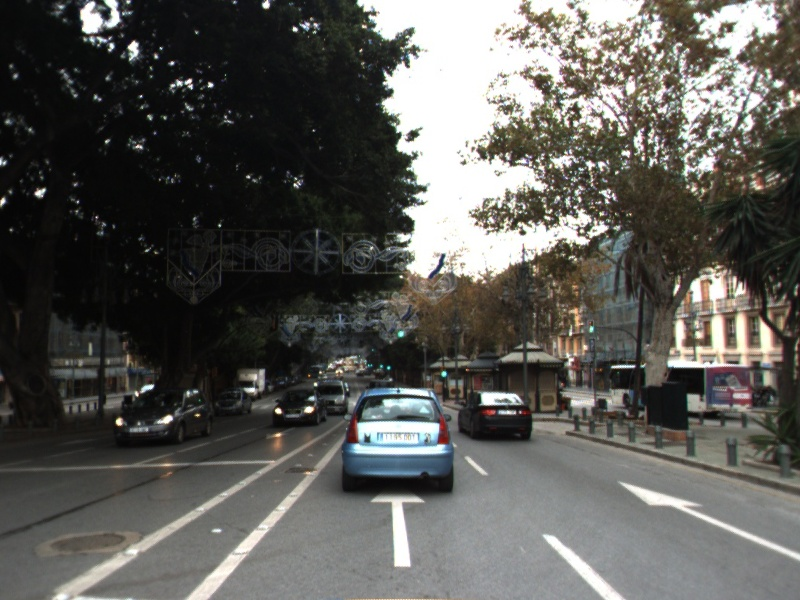STRAIGHT: (615, 478, 800, 561), (368, 487, 428, 569)
